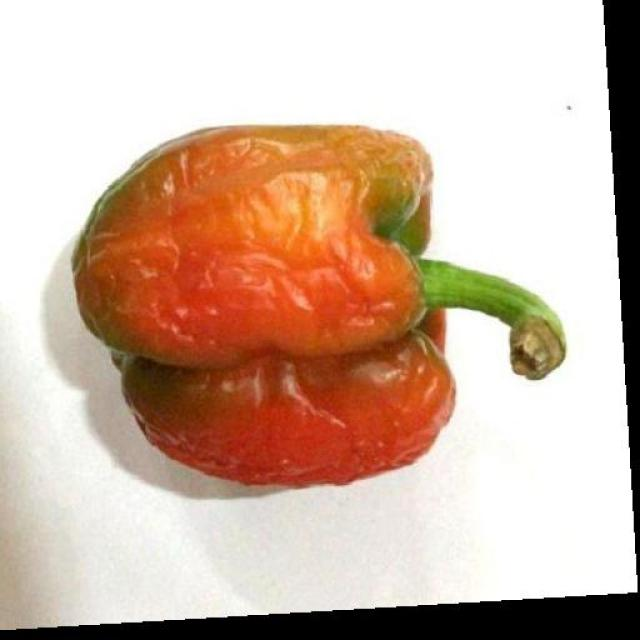Stale_Capsicum: (114, 120, 532, 518)
